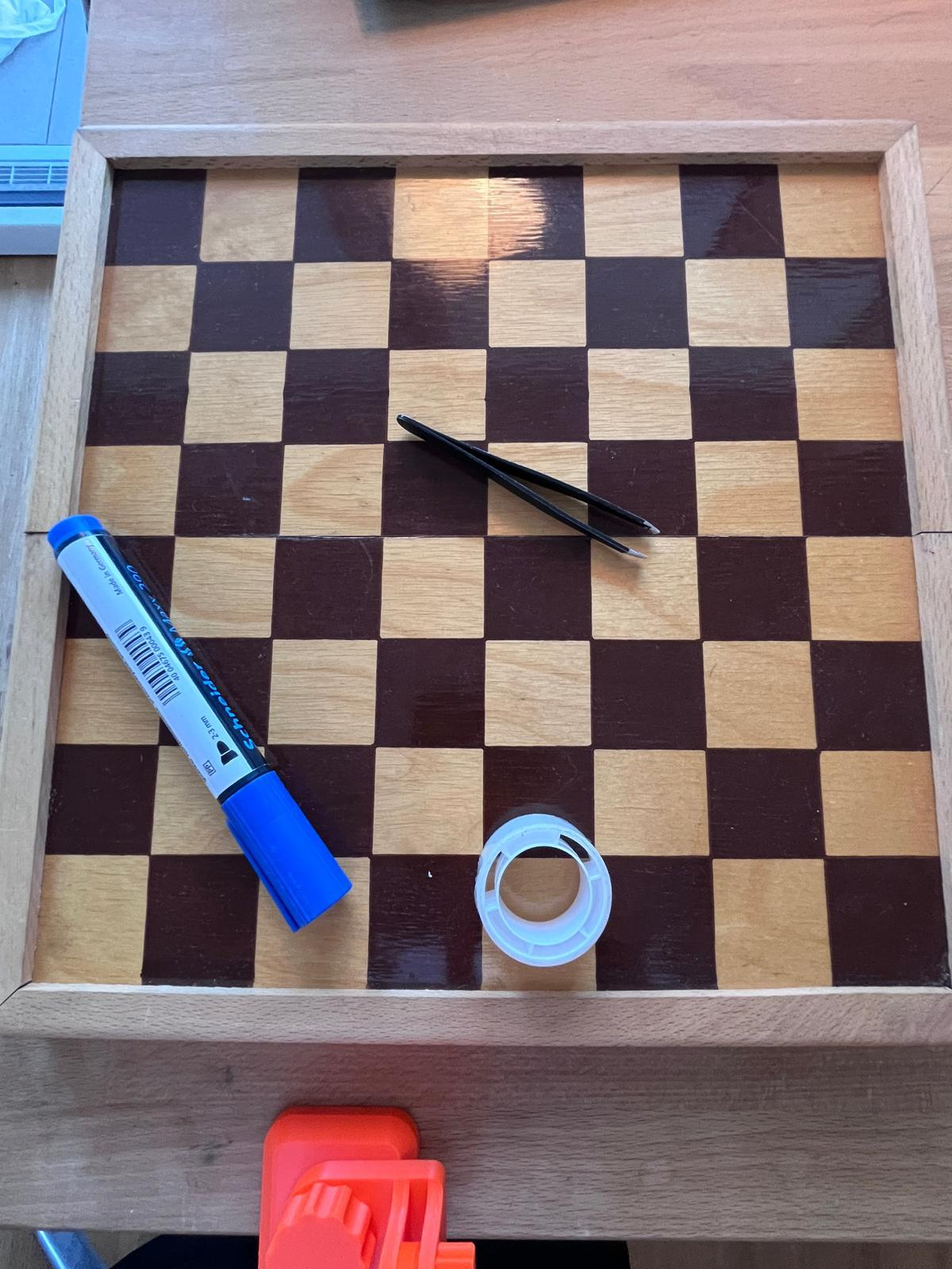marker: (43, 511, 357, 937)
tape: (473, 815, 611, 969)
tweezer: (395, 404, 662, 566)
